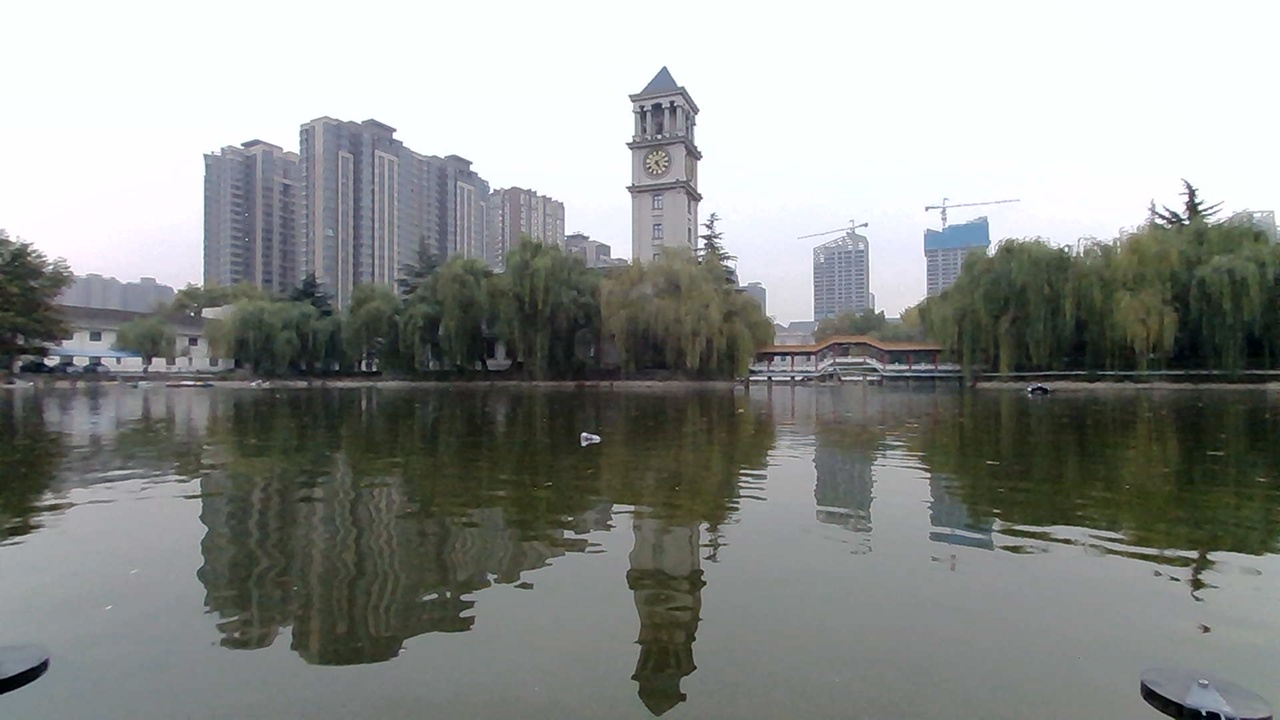bottle: (569, 417, 621, 455)
